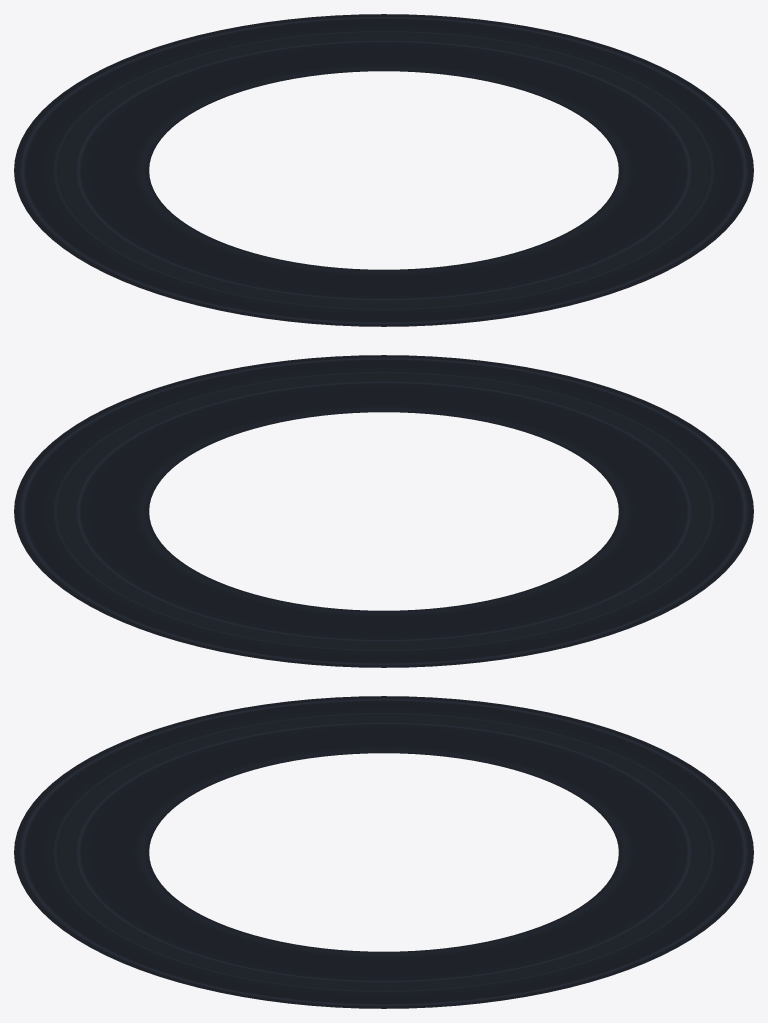
Rendered from neptune_rings.glb.
The picture shows the model from 3 angles, top to bottom: view 1: azimuth 30°, elevation 25°; view 2: azimuth 150°, elevation 25°; view 3: azimuth 270°, elevation 25°; orthographic projection.
Visible parts, largest first — view 1: neptune_rings; view 2: neptune_rings; view 3: neptune_rings.
Boxes of the visible parts, <box> form: neptune_rings: <box>14,14,753,326</box>; neptune_rings: <box>14,355,753,667</box>; neptune_rings: <box>14,696,753,1008</box>.
Size of the model in its own units: 5.2 by 0 by 5.2.
Materials: 1 (1 with a texture image).
